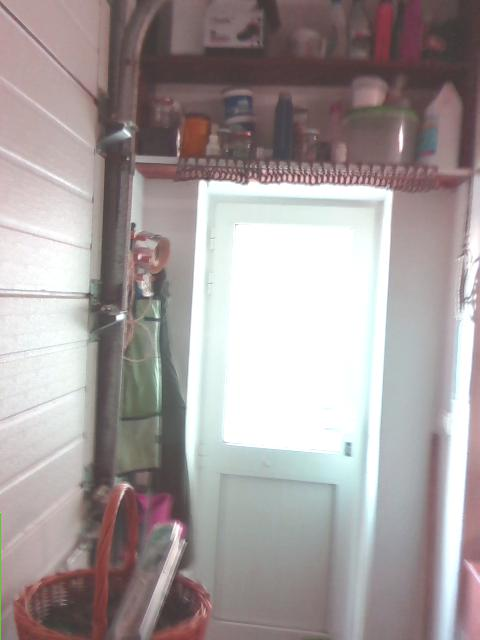closed_door: (183, 177, 392, 639)
